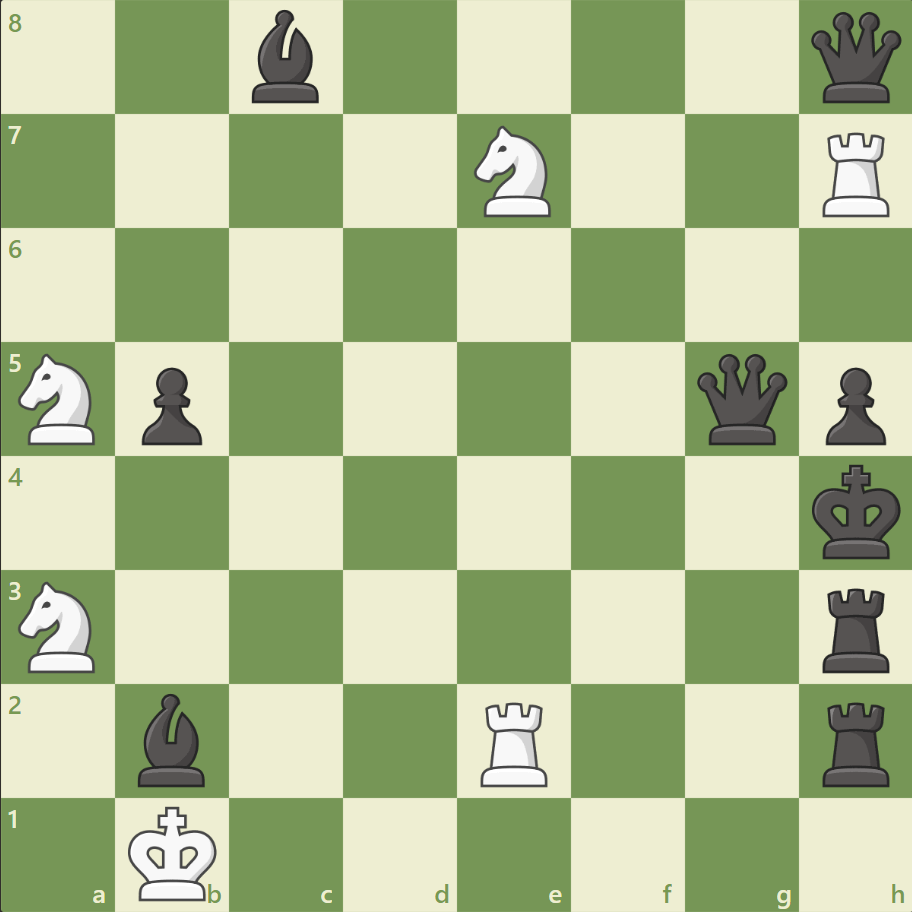K: (124, 798, 224, 906)
N: (465, 121, 562, 223), (11, 348, 108, 450), (11, 575, 108, 677)
R: (814, 125, 897, 222), (473, 693, 556, 790)
b: (244, 6, 328, 109), (131, 687, 215, 790)
k: (806, 458, 906, 566)
p: (133, 359, 208, 450), (815, 359, 889, 450)
q: (691, 349, 790, 449), (805, 9, 904, 108)
r: (814, 579, 897, 676), (814, 693, 897, 790)
